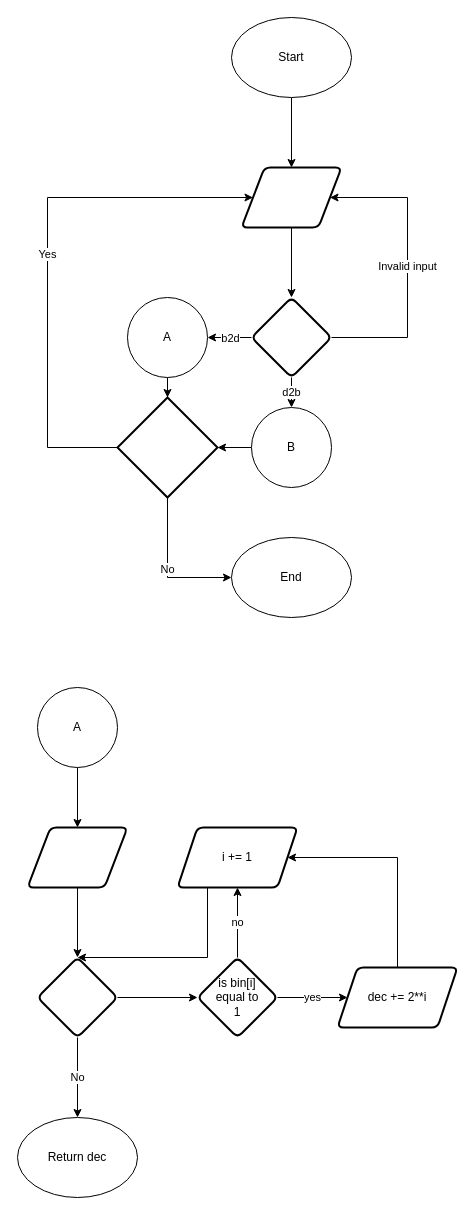
The diagram is 476 pixels wide and 1215 high, and some of its shapes have lost their labels. Each missing label, with the centre of its shape:
Bin to dec or dec to bin: the point at 291,197
Check user choice: the point at 291,337
Go again?: the point at 167,447
i=0 dec=0: the point at 77,857
Is i<len(bin): the point at 77,997
